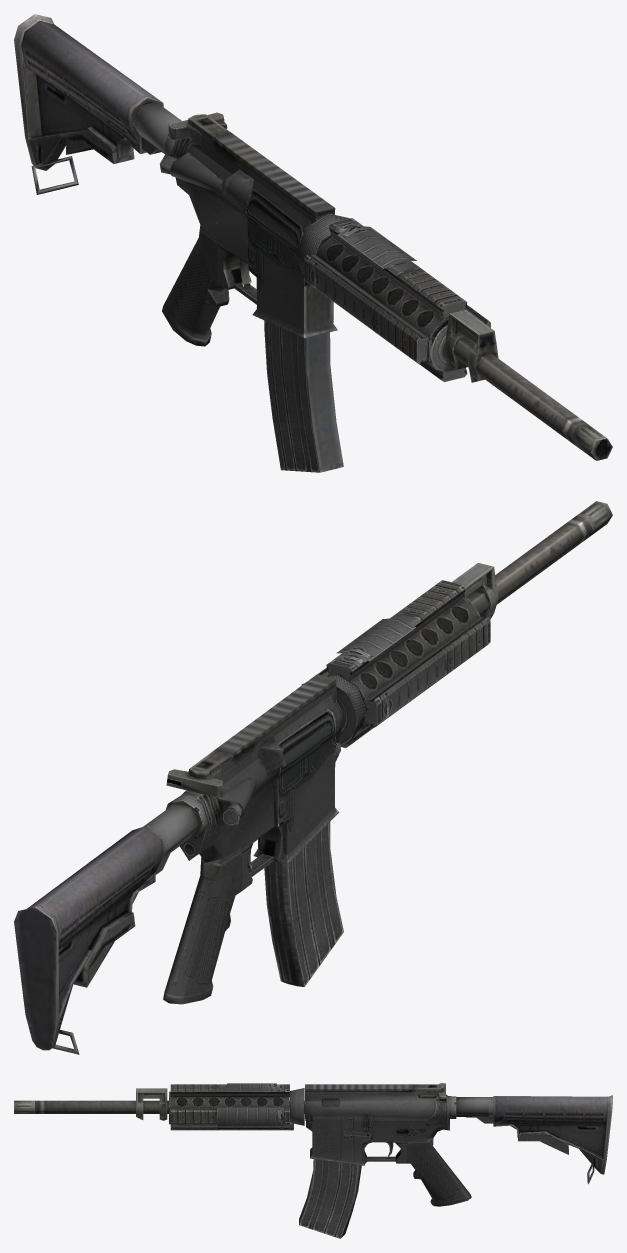
The model's file is Assault_Rifle_bq_01_lod1_Body_LOD_(000659).glb.
3 renders of one model, top to bottom at view 1: azimuth 30°, elevation 25°; view 2: azimuth 150°, elevation 25°; view 3: azimuth 270°, elevation 25°, orthographic. The views are drawn at different scales.
Parts seen in each view (by area): view 1: bq_01_lod1; view 2: bq_01_lod1; view 3: bq_01_lod1.
Part boxes in pixels (bbox=[...]): bq_01_lod1: bbox=[14, 14, 612, 472]; bq_01_lod1: bbox=[14, 501, 612, 1054]; bq_01_lod1: bbox=[14, 1083, 612, 1238].
Bounding box in the file's own units: 0.1324 × 0.4435 × 1.59.
Materials: 1 (1 with a texture image).
